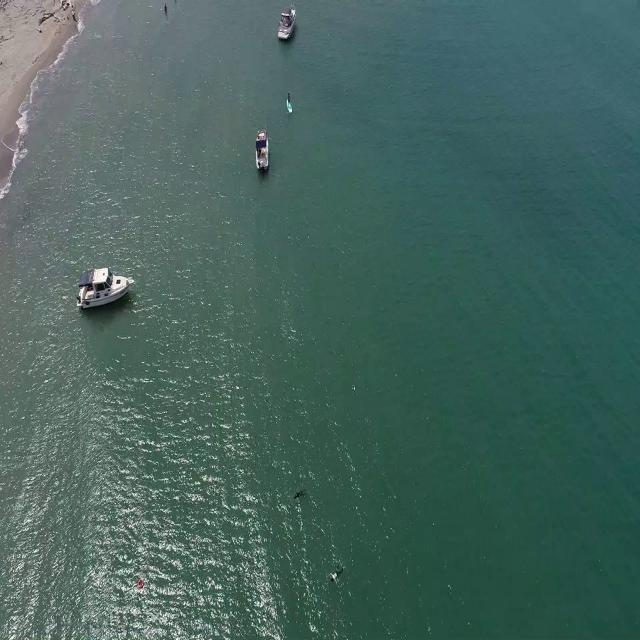boat: (77, 268, 132, 308), (255, 130, 273, 172), (278, 2, 296, 40)
life_buoy: (138, 577, 144, 590)
person: (329, 565, 344, 590), (294, 488, 308, 502), (162, 1, 170, 16), (287, 93, 293, 107)
surfboard: (284, 100, 294, 113)
